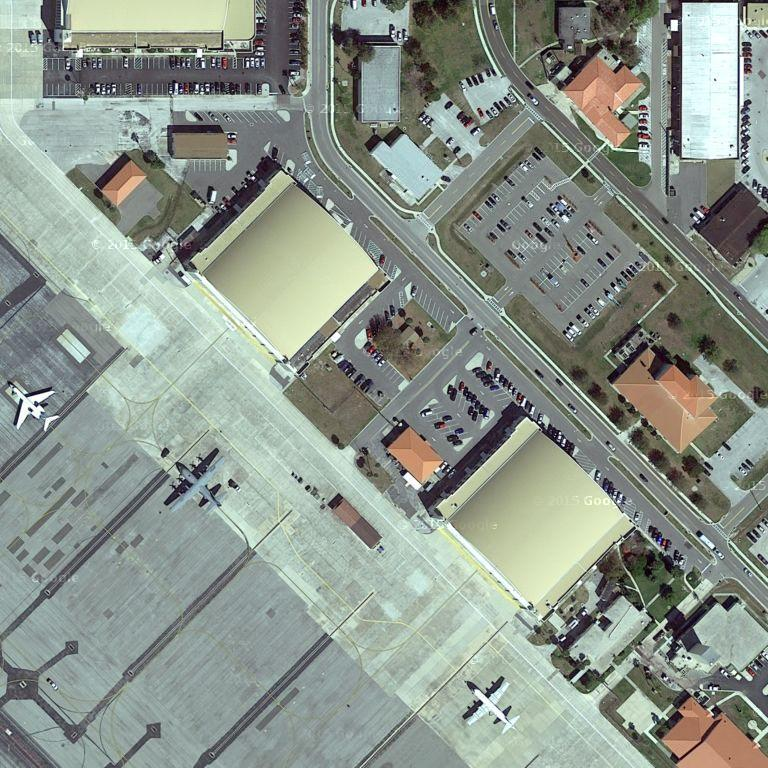C-130: (164, 452, 231, 517)
P-3C: (461, 673, 526, 739)
plane: (7, 378, 65, 437)
